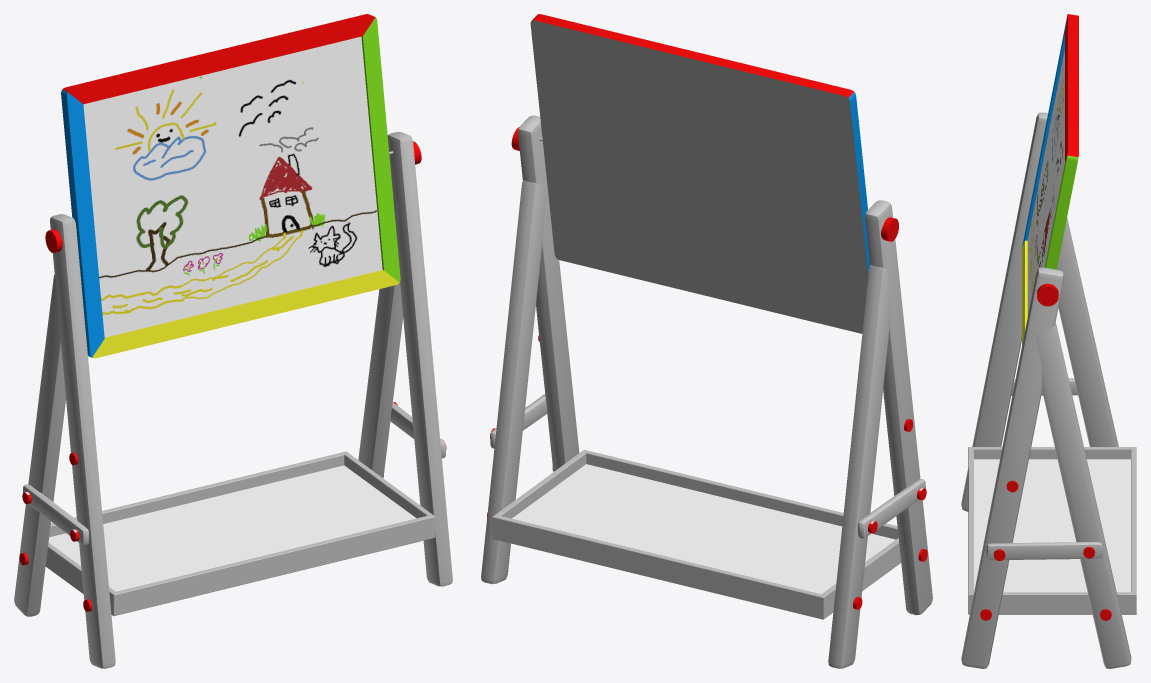
Rendered from Whiteboard.fbx.
The picture shows the model from 3 angles, left to right: view 1: azimuth 30°, elevation 25°; view 2: azimuth 150°, elevation 25°; view 3: azimuth 270°, elevation 25°; orthographic projection. The views are drawn at different scales.
Visible parts, largest first — view 1: Whiteboard; view 2: Whiteboard; view 3: Whiteboard.
Part boxes in pixels (<box>): Whiteboard: <box>14,14,452,668</box>; Whiteboard: <box>481,14,932,668</box>; Whiteboard: <box>961,14,1136,668</box>.
Size of the model in its own units: 71.92 by 99.64 by 31.24.
